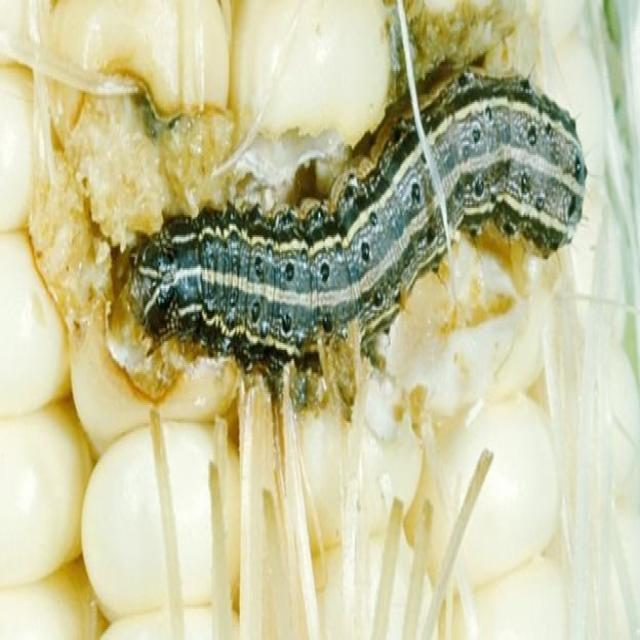pest-armyworm: (126, 68, 590, 394)
